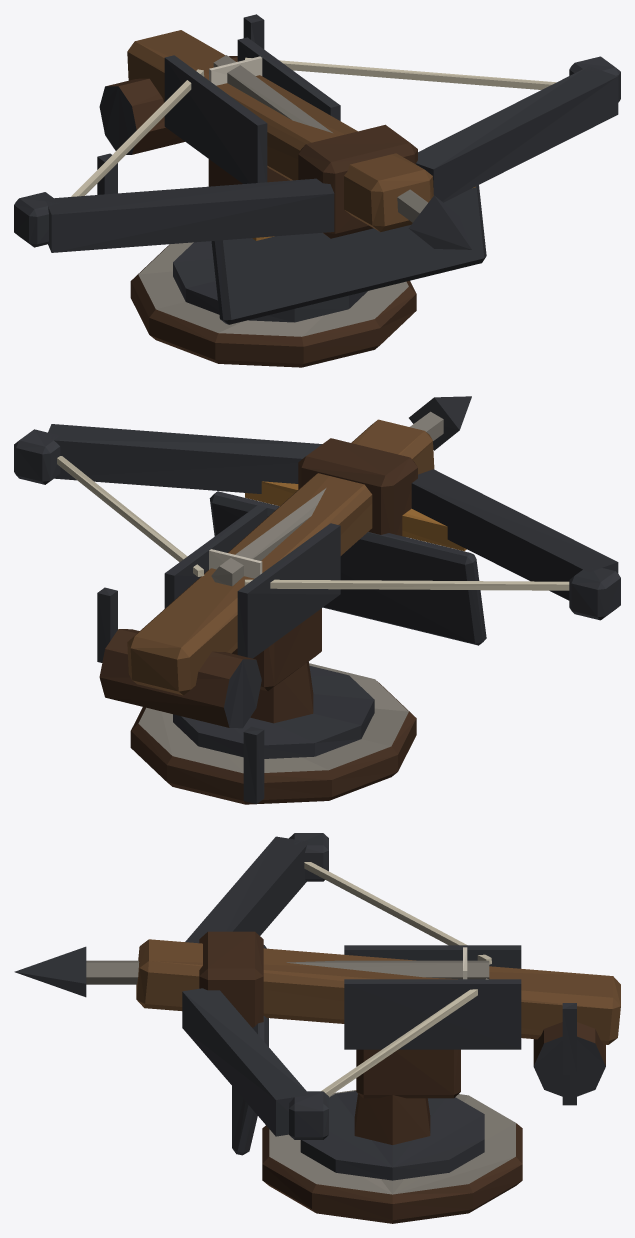
The model's file is siege_perch_head.glb.
3 views of the same model, one above another, from view 1: azimuth 30°, elevation 25°; view 2: azimuth 150°, elevation 25°; view 3: azimuth 270°, elevation 25° (orthographic). The views are drawn at different scales.
Parts seen in each view (by area): view 1: siege_perch_head; view 2: siege_perch_head; view 3: siege_perch_head.
Part boxes in pixels (x1,y1,x2,y2): siege_perch_head: [14, 14, 620, 367]; siege_perch_head: [14, 396, 620, 804]; siege_perch_head: [14, 833, 620, 1223].
Bounding box in the file's own units: 0.906 × 0.3416 × 0.844.
